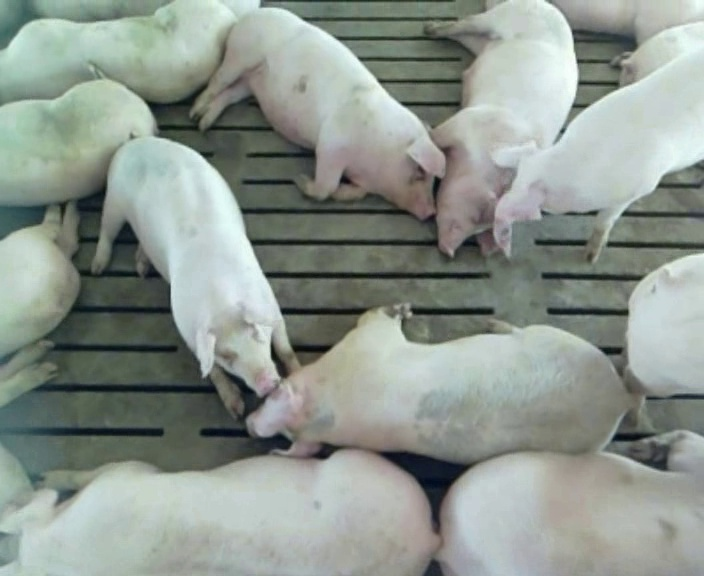pig: (247, 304, 631, 463), (92, 137, 298, 417), (0, 450, 438, 574), (190, 8, 444, 219), (488, 48, 703, 260), (425, 2, 577, 262), (437, 431, 703, 574), (0, 2, 257, 104), (0, 63, 156, 205), (623, 254, 703, 427), (0, 201, 79, 357), (619, 21, 703, 85)
